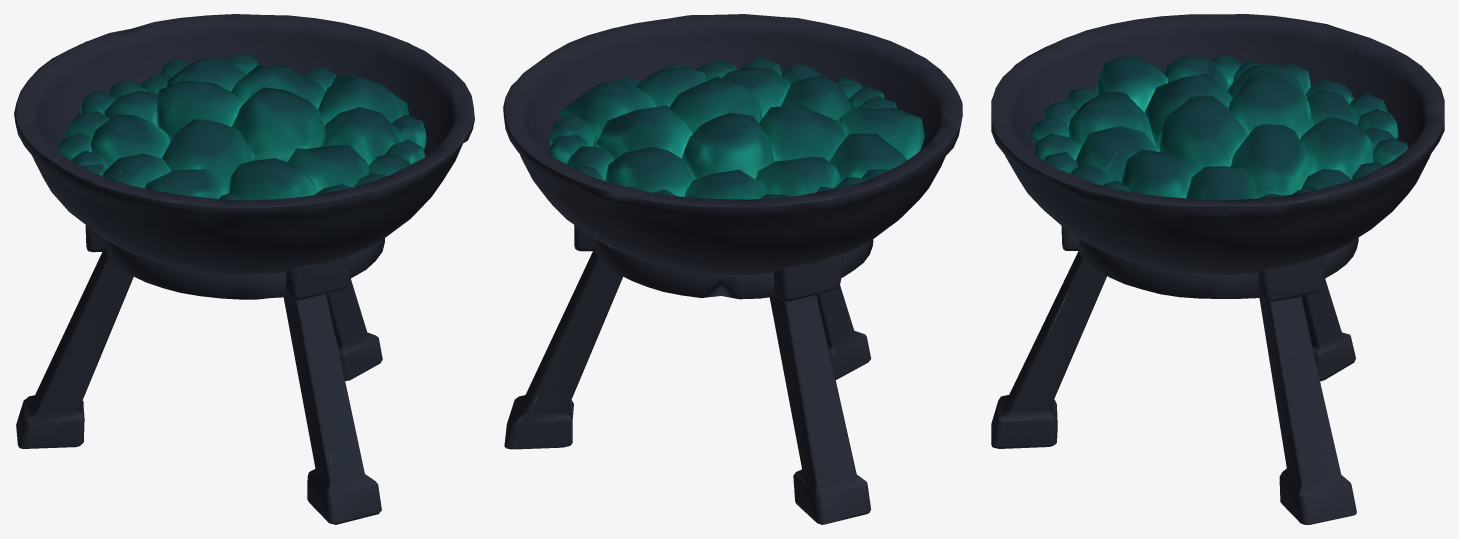
Rendered from light_source.glb.
3 renders of one model, left to right at view 1: azimuth 30°, elevation 25°; view 2: azimuth 150°, elevation 25°; view 3: azimuth 270°, elevation 25°, orthographic.
Bounding box in the file's own units: 1 × 0.8418 × 1.
1 material, 1 textured.
